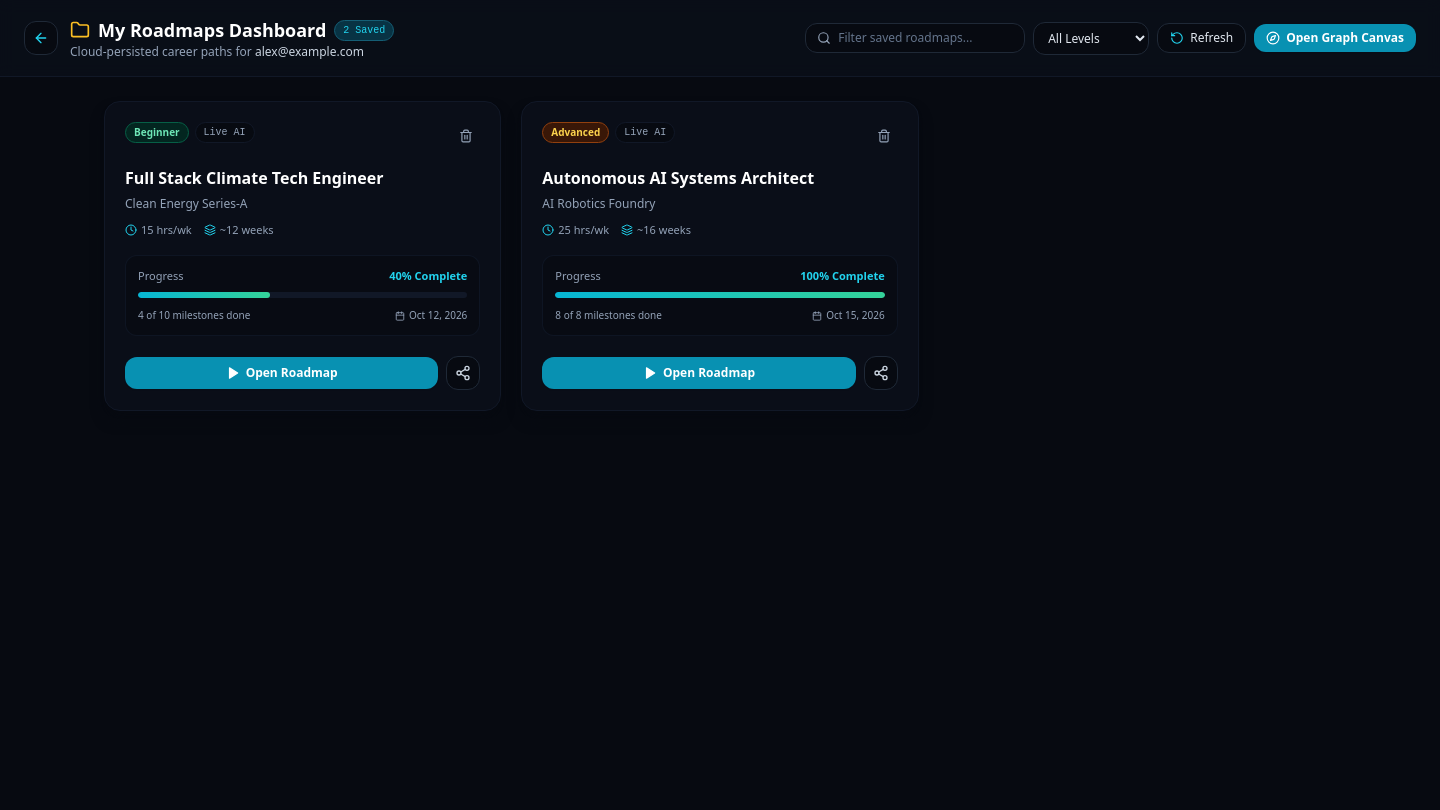
Test: Phase 10 — My Roadmaps Dashboard Tests › canceling delete confirmation modal dismisses without deleting
Step 1. Click the button named "Delete Full Stack Climate Tech Engineer" → (466, 136), box [452,122,480,150]
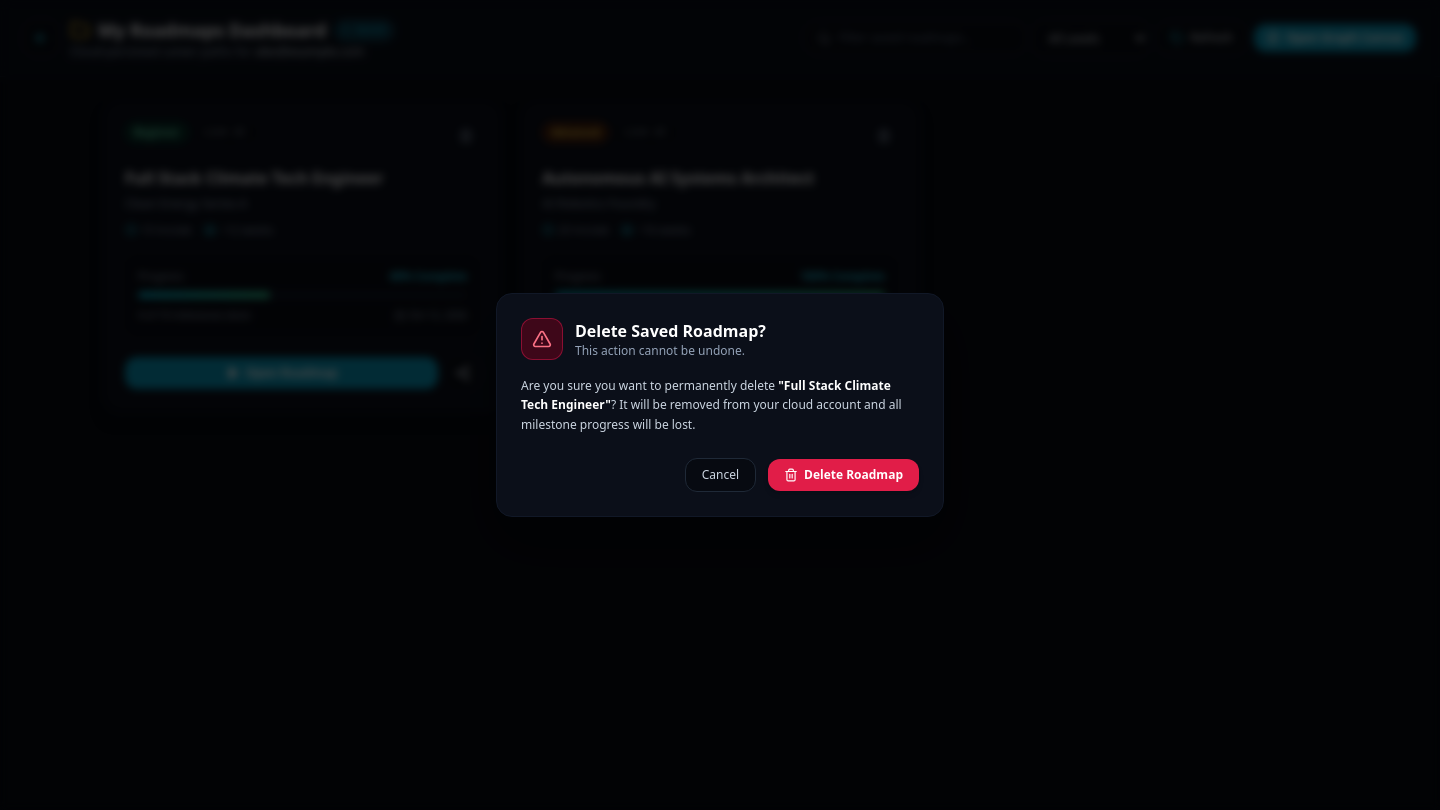
Step 2. Click the button "Cancel" → (720, 475), box [685,458,756,492]
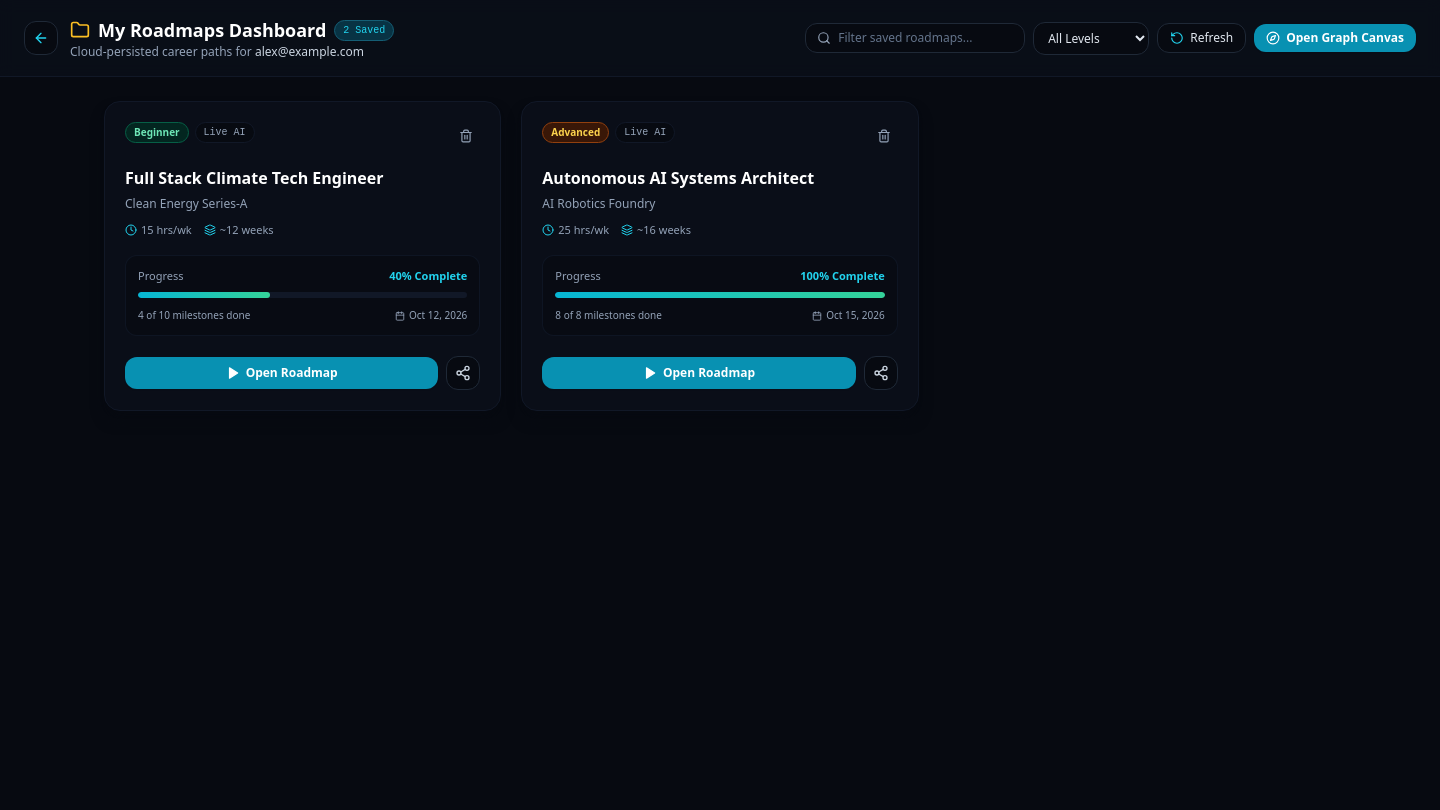
Check: the heading "Delete Saved Roadmap?" is gone
